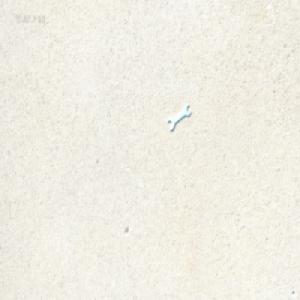Wrench: (167, 102, 189, 130)
